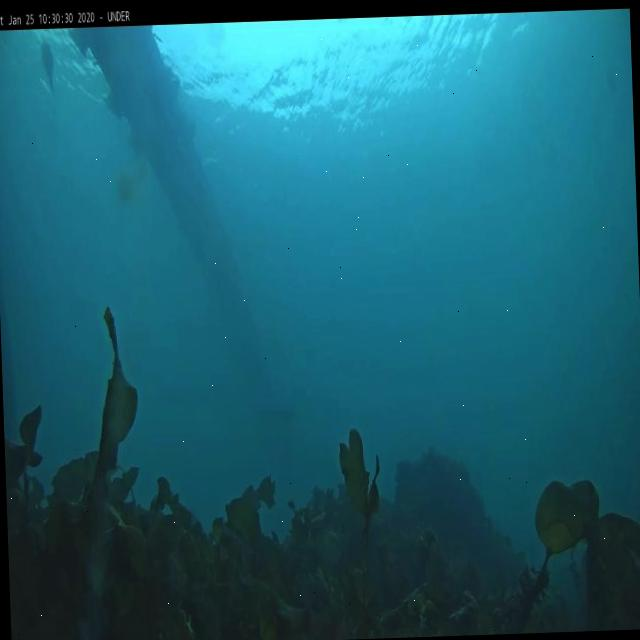fish: (39, 41, 59, 95)
